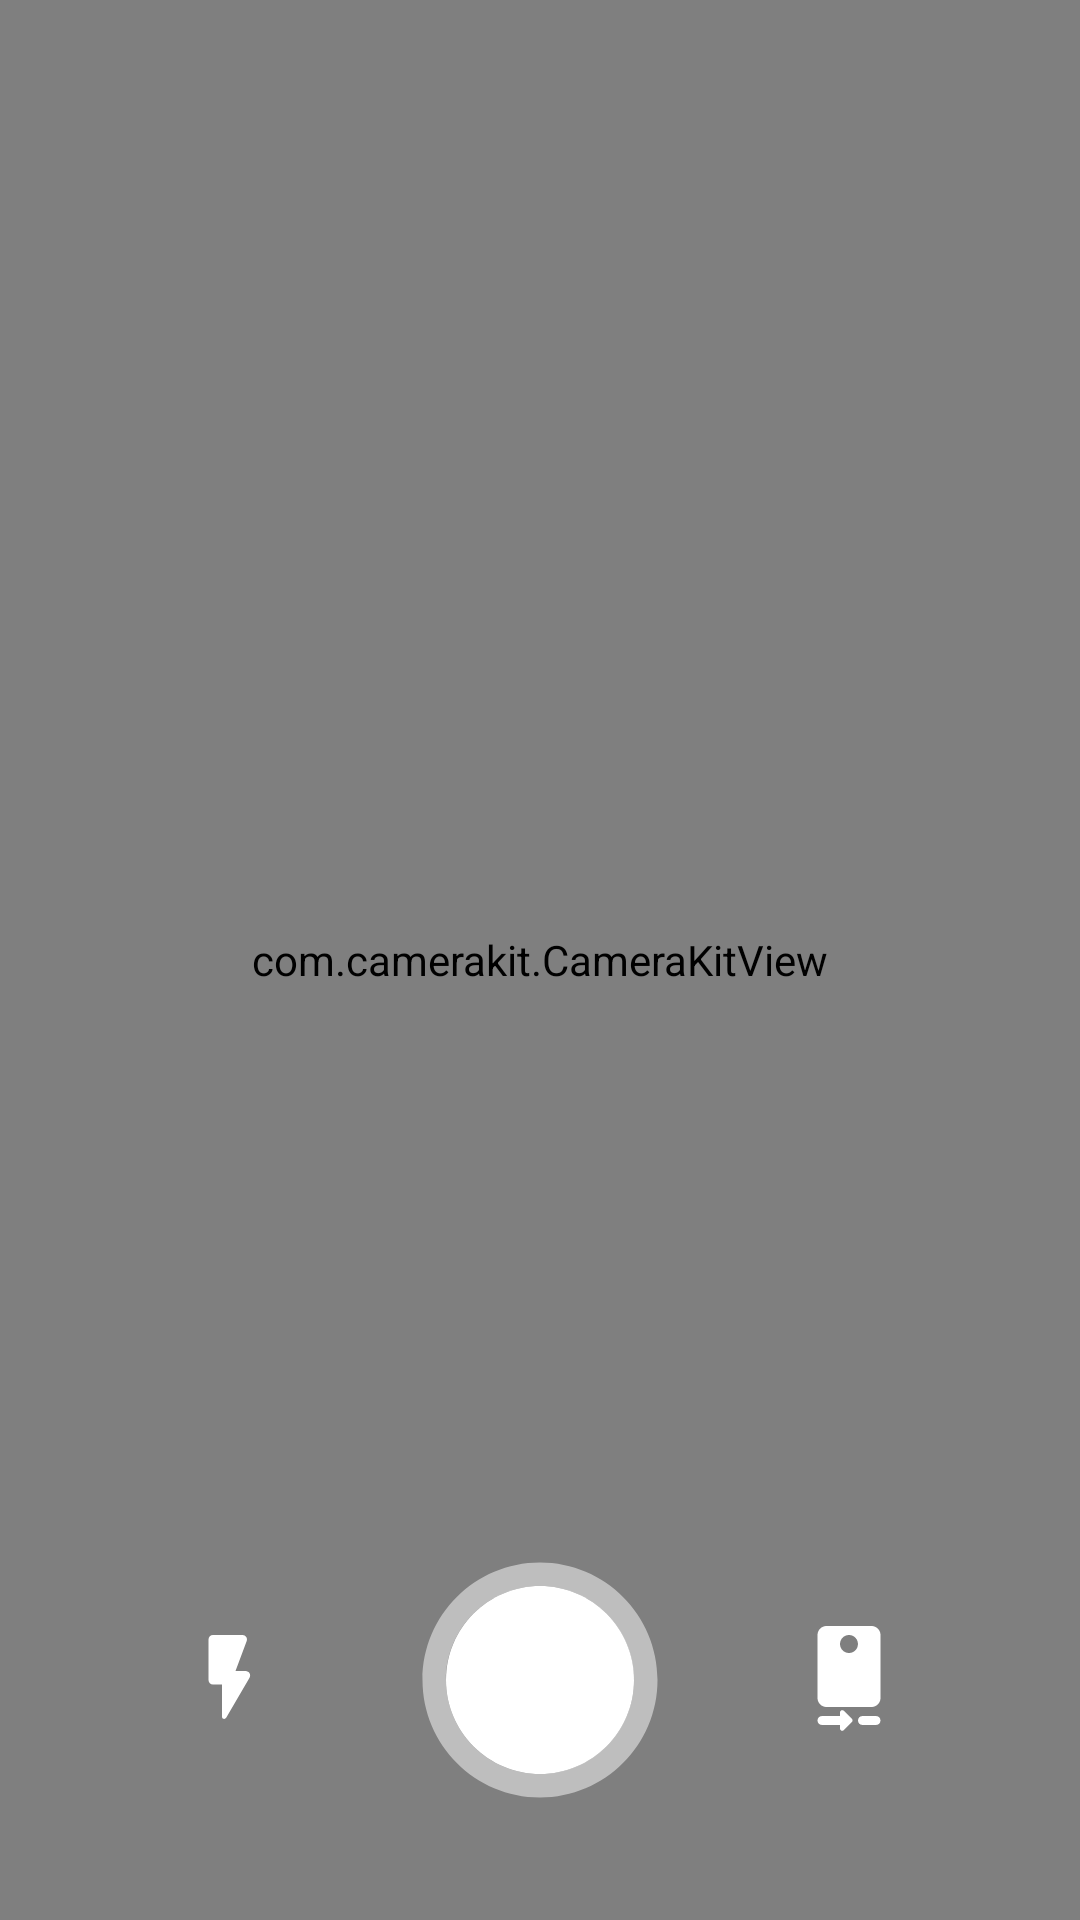

Screen size 1080*1920. Icon name, then its center in pixels as (x=x, y=y):
camera rear: (x=849, y=1678)
flash on: (x=229, y=1677)
